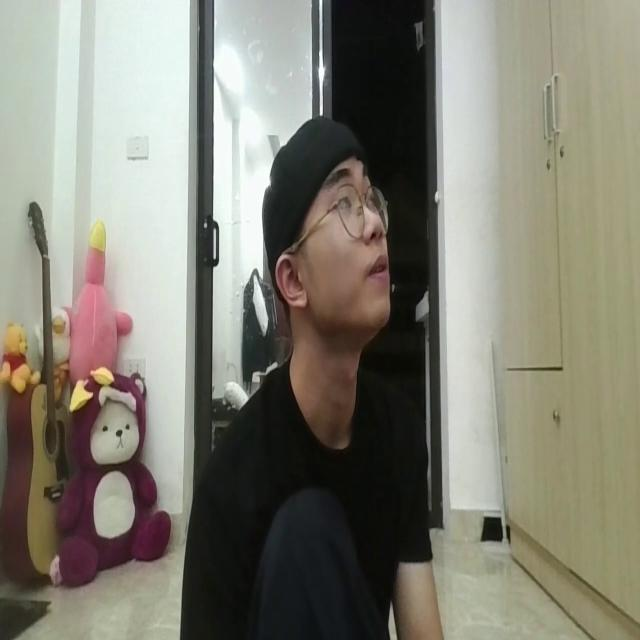student: (182, 108, 442, 640)
